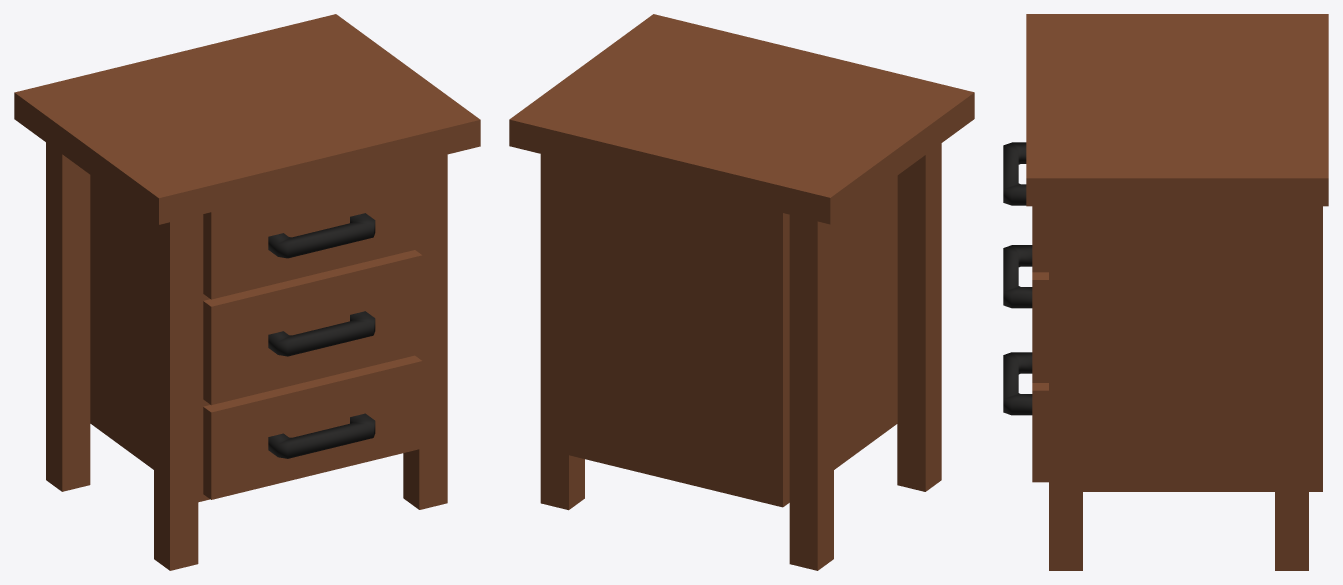
The model's file is 06_furniture_drawer.FBX.
3 views of the same model, side by side, from view 1: azimuth 30°, elevation 25°; view 2: azimuth 150°, elevation 25°; view 3: azimuth 270°, elevation 25° (orthographic). The views are drawn at different scales.
Parts seen in each view (by area): view 1: furniture_drawer, furniture_drawer2, furniture_drawer3, furniture_drawer1; view 2: furniture_drawer; view 3: furniture_drawer, furniture_drawer2, furniture_drawer3, furniture_drawer1.
Boxes of the visible parts, left/top/right/bottom form: furniture_drawer: left=14, top=14, right=480, bottom=570; furniture_drawer2: left=203, top=250, right=422, bottom=405; furniture_drawer3: left=203, top=355, right=422, bottom=499; furniture_drawer1: left=203, top=161, right=422, bottom=299; furniture_drawer: left=509, top=14, right=974, bottom=570; furniture_drawer: left=1026, top=14, right=1328, bottom=570; furniture_drawer2: left=1003, top=245, right=1048, bottom=382; furniture_drawer3: left=1003, top=352, right=1048, bottom=482; furniture_drawer1: left=1003, top=142, right=1048, bottom=272.
Size of the model in its own units: 45.52 by 52.2 by 38.1.
